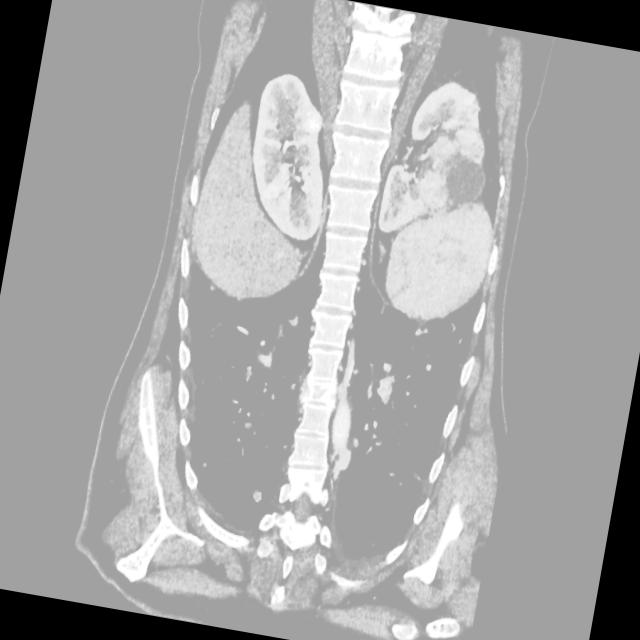TUMOR: (99, 72, 602, 388)
